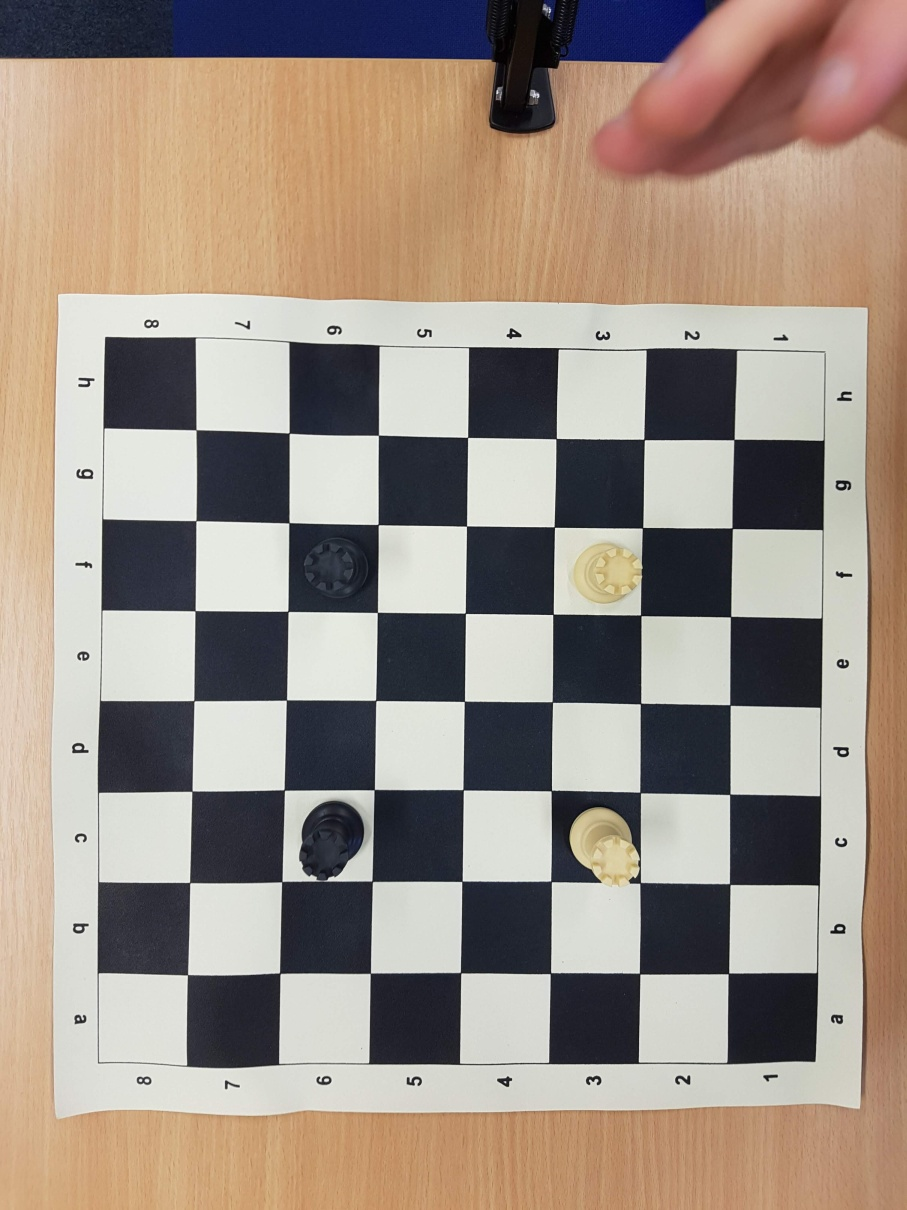chess_rook: (567, 805, 640, 886), (299, 799, 364, 880), (301, 536, 370, 599), (571, 542, 641, 603)
